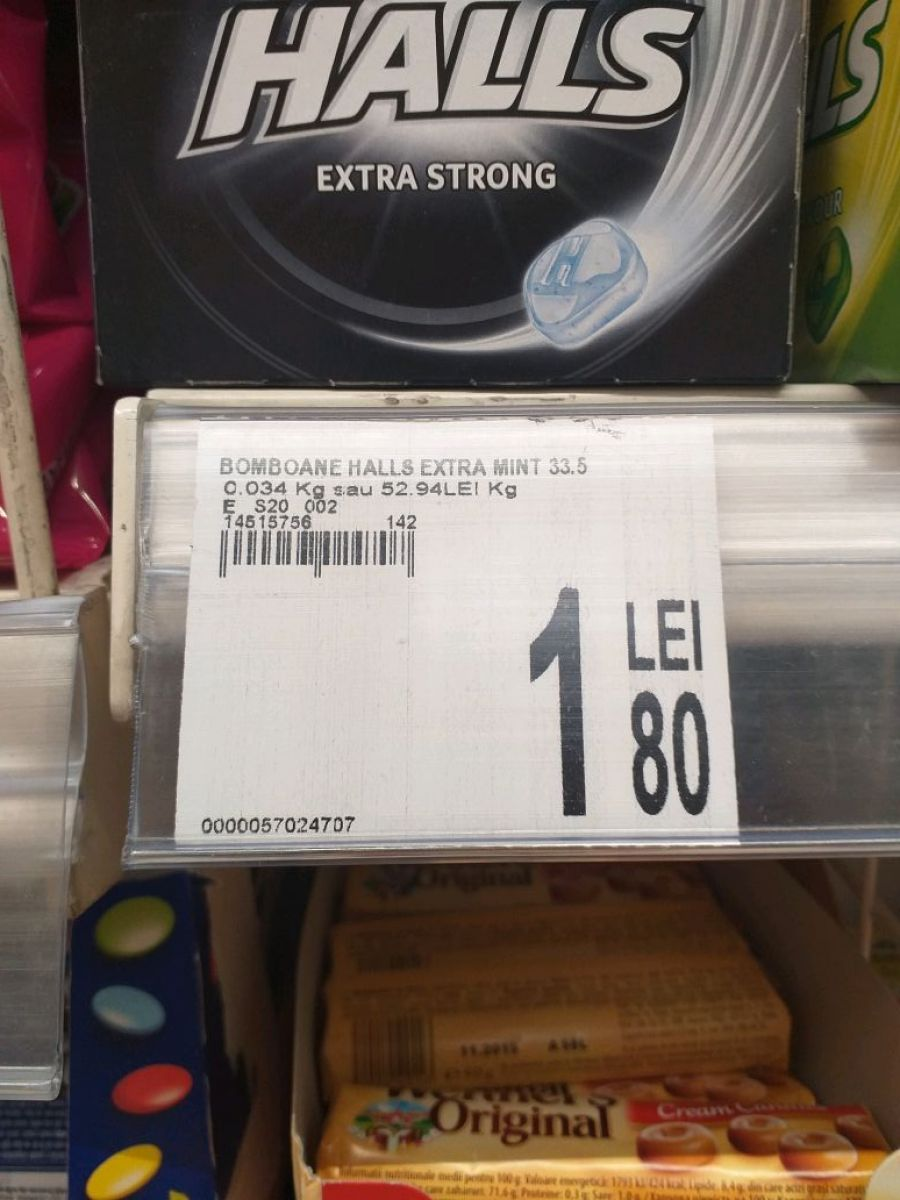price_bani: (606, 683, 729, 822)
price_lei: (509, 578, 598, 820)
price_tag: (132, 389, 787, 880)
product_id: (186, 804, 368, 844)
product_name: (209, 446, 603, 478)
